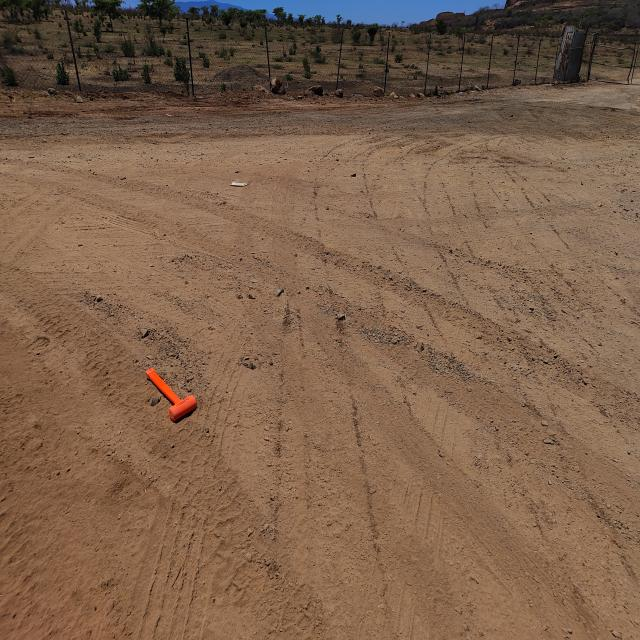Orange_hammer: (145, 366, 197, 423)
